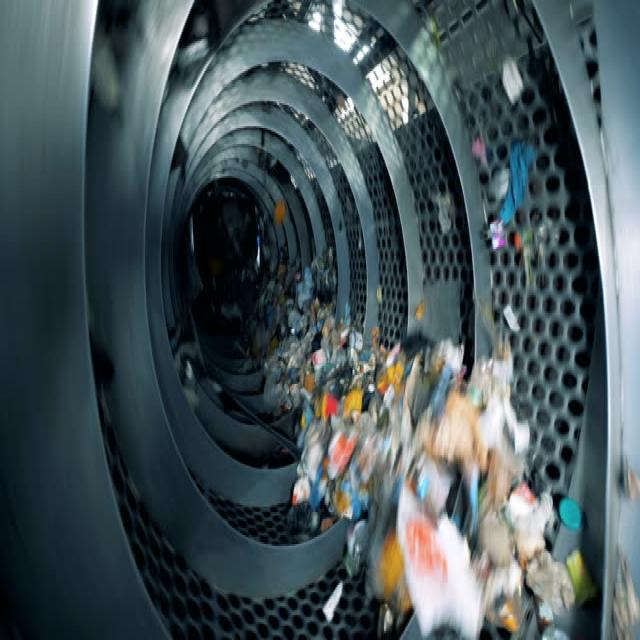plastic: (271, 304, 522, 599)
